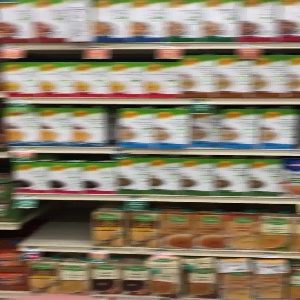void: (22, 196, 87, 248)
